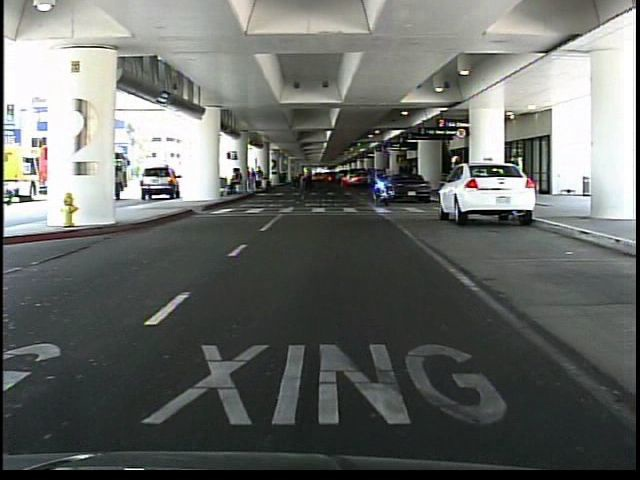person: (446, 151, 465, 218)
